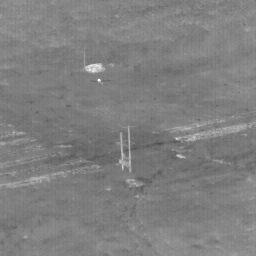aircraft: (98, 80, 100, 82)
